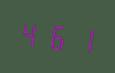four: (18, 16, 42, 51)
one: (69, 21, 93, 56)
six: (44, 18, 68, 53)
